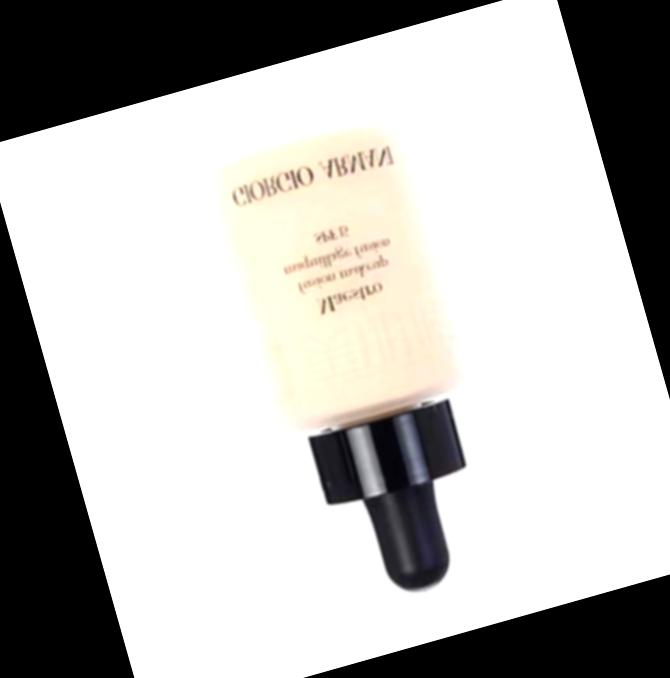cosmetic: (180, 83, 533, 623)
